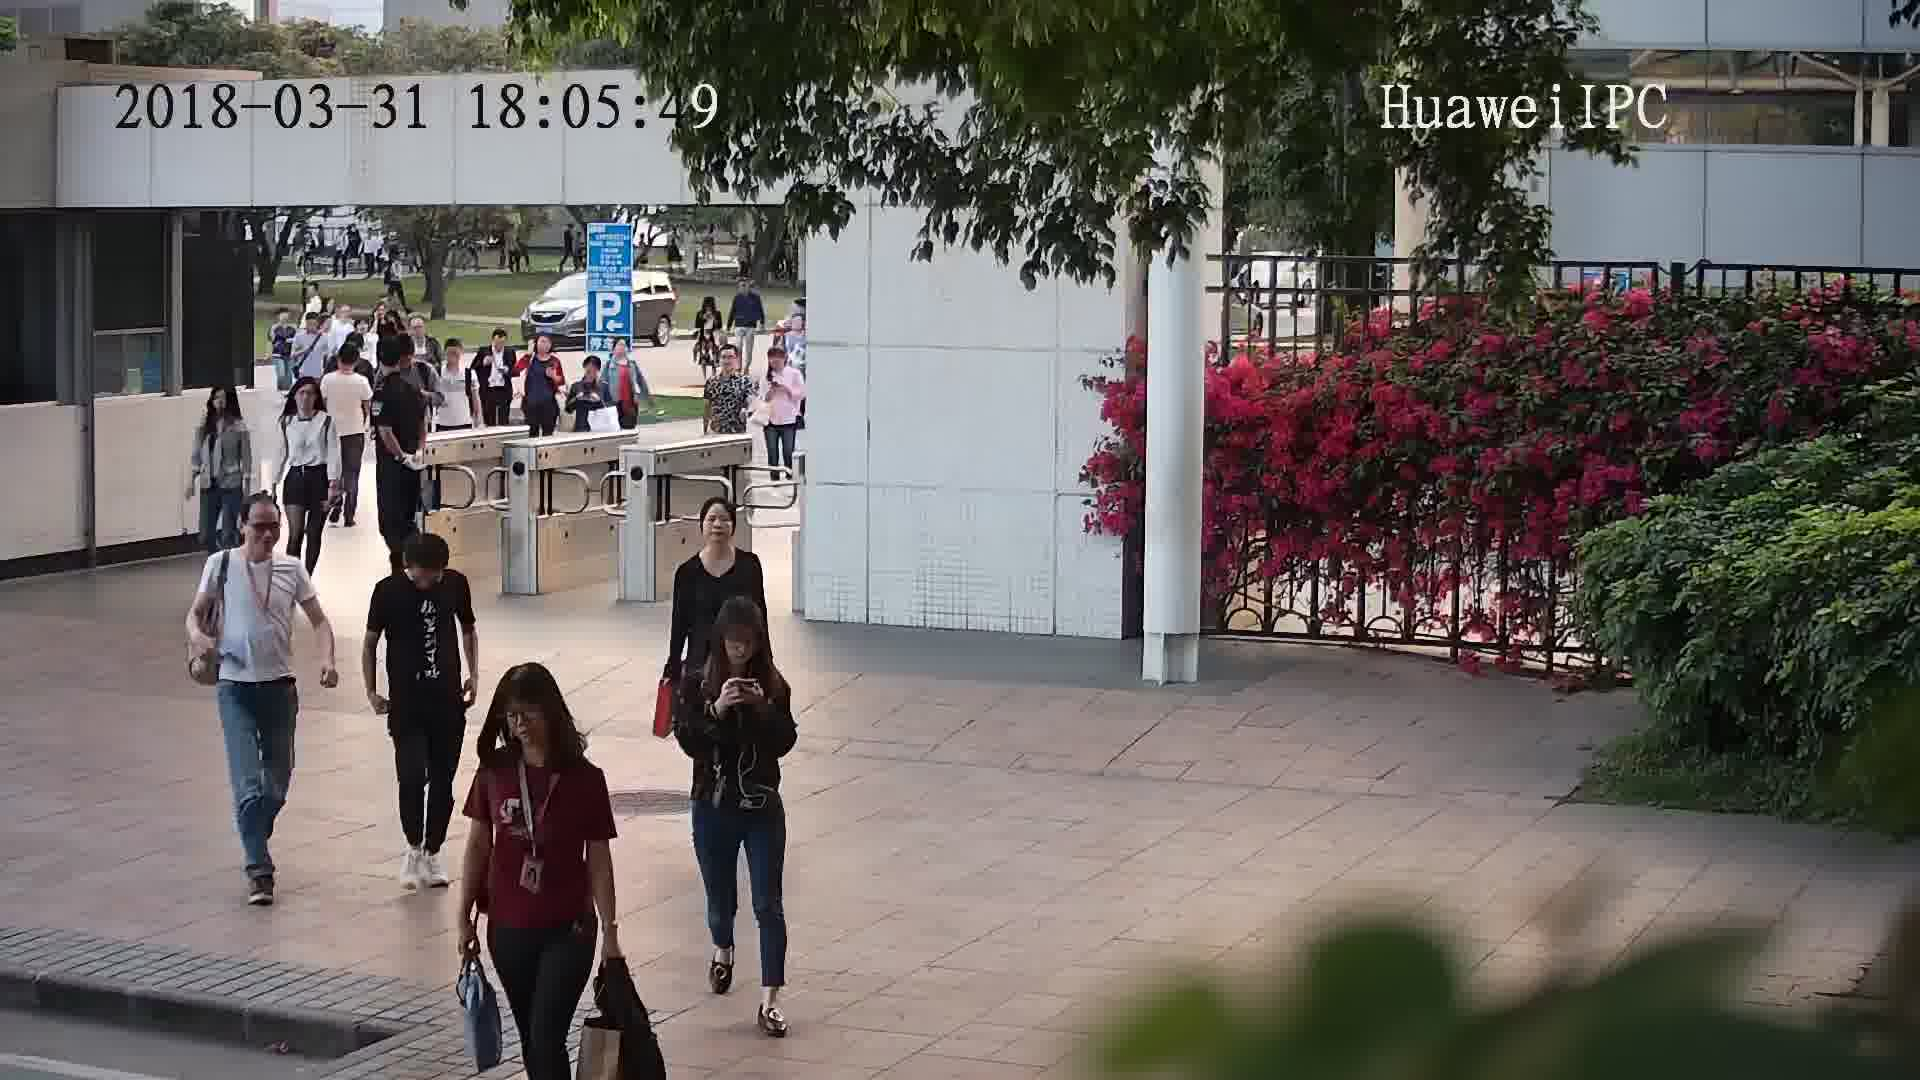face: (497, 685, 560, 747), (239, 507, 283, 558), (700, 500, 735, 550), (720, 624, 760, 664), (291, 384, 319, 414)
person: (472, 657, 605, 791), (694, 597, 788, 699), (209, 489, 308, 581), (371, 527, 470, 616), (673, 492, 764, 581), (278, 376, 338, 427), (197, 383, 253, 435), (380, 335, 427, 394), (320, 345, 370, 393), (712, 343, 753, 391), (435, 334, 476, 383), (762, 342, 804, 386), (524, 329, 566, 370), (602, 333, 642, 378), (573, 352, 611, 400), (289, 308, 334, 346), (407, 311, 446, 354), (474, 328, 518, 364), (266, 305, 299, 335), (693, 293, 724, 326), (734, 269, 763, 303), (351, 315, 380, 344)
